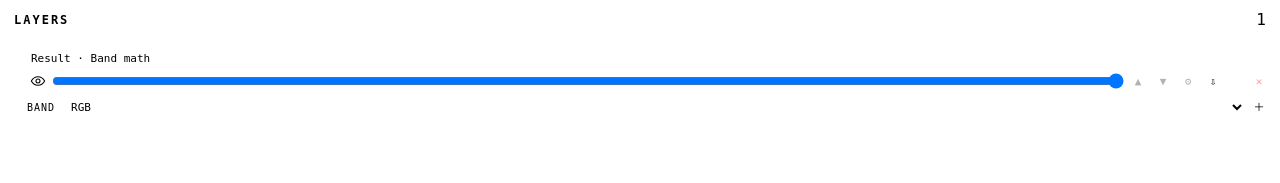
Test: "Add band as layer" › adds the colour picture as "RGB", with the three bands and no colormap, where the band is "RGB"
This screenshot has width=1280, height=183.
Click the button with class "lm-add-band".
click(1259, 106)  # box [1248,95,1270,117]
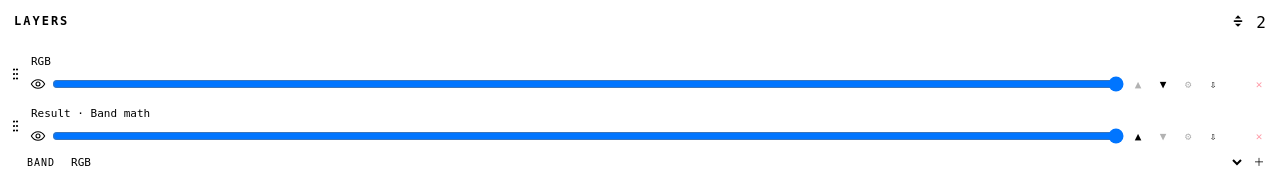
Now the button with class "lm-name" reads "RGB", box [27,53,1270,70]
